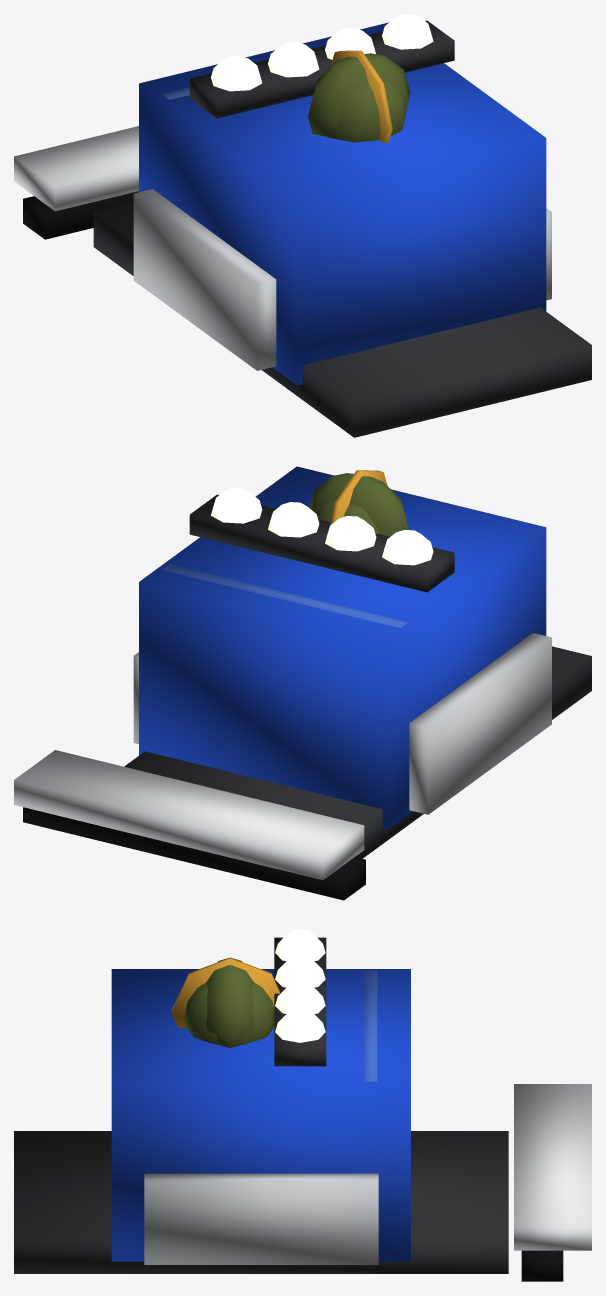
File: monster_raw.glb
3 views of the same model, one above another, from view 1: azimuth 30°, elevation 25°; view 2: azimuth 150°, elevation 25°; view 3: azimuth 270°, elevation 25° (orthographic). The views are drawn at different scales.
Visible parts, largest first — view 1: Monster; view 2: Monster; view 3: Monster.
Boxes of the visible parts, x1,y1,x2,y2 form: Monster: [14, 14, 591, 437]; Monster: [14, 466, 591, 900]; Monster: [14, 929, 591, 1281].
Size of the model in its own units: 1.35 by 1.1 by 2.22.
